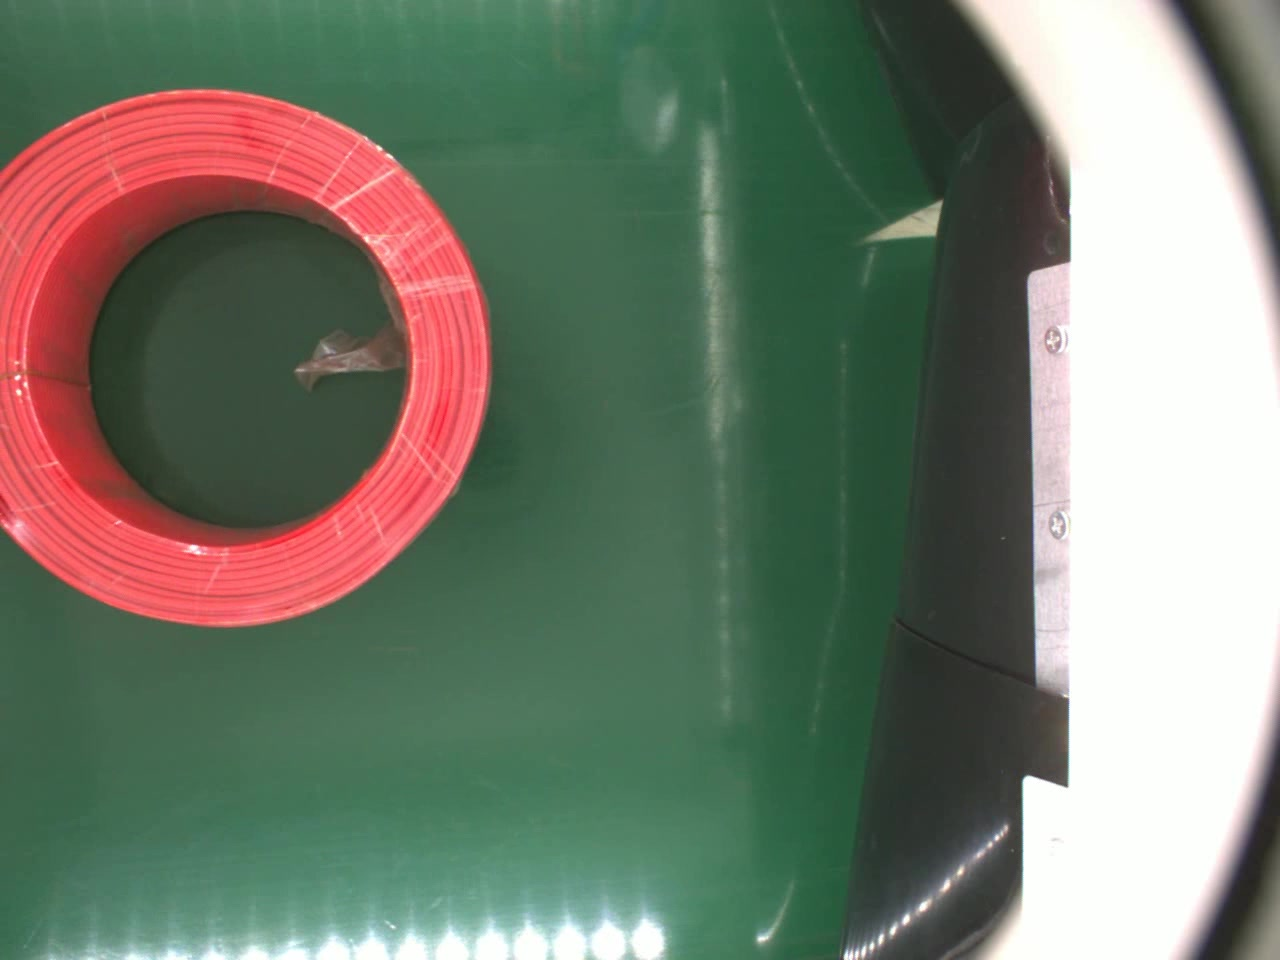red: (0, 85, 494, 630)
